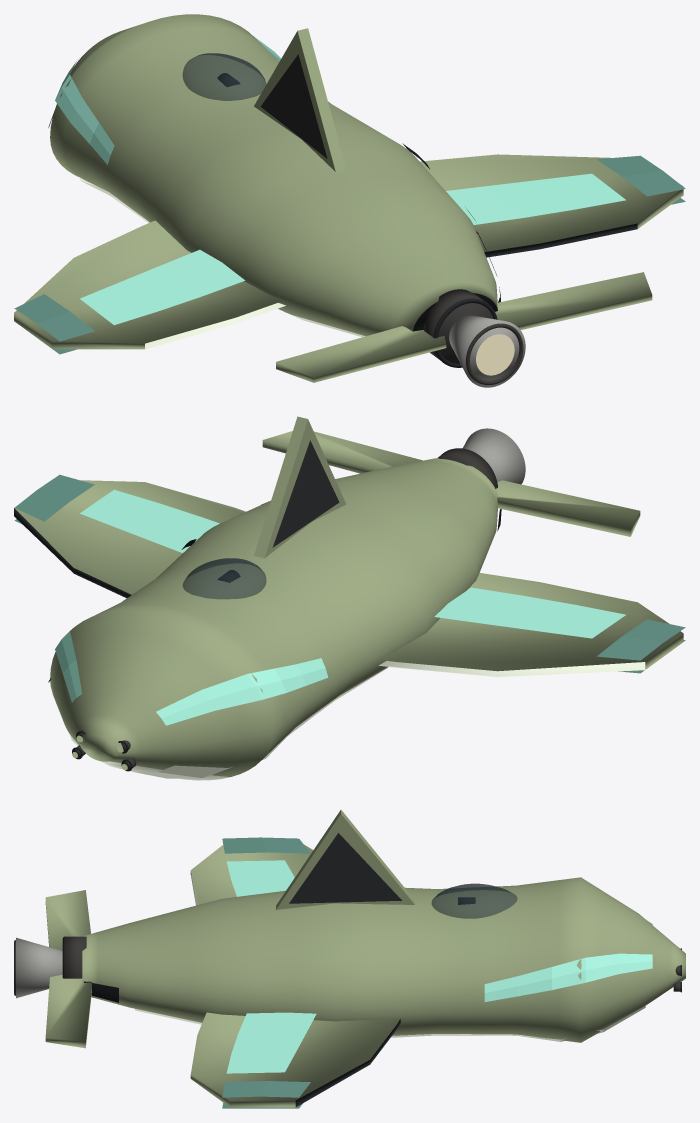
File: Ship_Orca_687341.glb
3 renders of one model, top to bottom at view 1: azimuth 30°, elevation 25°; view 2: azimuth 150°, elevation 25°; view 3: azimuth 270°, elevation 25°, orthographic. The views are drawn at different scales.
Parts seen in each view (by area): view 1: Fuselage_OrcaCountershadedHull, PectoralFin_Left_AerofoilWingFin, PectoralFin_Right_AerofoilWingFin, PectoralFinPaint_Left_BroadSimplePanelTop, PectoralFinPaint_Right_BroadSimplePanelTop, TailFluke_Left_SweptAftStabilizer, TailFluke_Right_SweptAftStabilizer, DorsalFin_MainSweptKeel, CanopyGlass_LowInsetDome, DorsalFinTrimPatch_LeftFace, EngineBell_MainLargeBurnishedNozzle, PaintEyePatch_Left_ForwardWhiteComma (+6 smaller); view 2: Fuselage_OrcaCountershadedHull, PectoralFin_Left_AerofoilWingFin, PectoralFin_Right_AerofoilWingFin, PectoralFinPaint_Left_BroadSimplePanelTop, PaintEyePatch_Left_ForwardWhiteComma, PectoralFinPaint_Right_BroadSimplePanelTop, TailFluke_Left_SweptAftStabilizer, DorsalFin_MainSweptKeel, DorsalFinTrimPatch_LeftFace, CanopyGlass_LowInsetDome, TailFluke_Right_SweptAftStabilizer, EngineBell_MainLargeBurnishedNozzle (+5 smaller); view 3: Fuselage_OrcaCountershadedHull, PectoralFin_Right_AerofoilWingFin, DorsalFinTrimPatch_RightFace, PectoralFinPaint_Right_BroadSimplePanelTop, PaintEyePatch_Right_ForwardWhiteComma, DorsalFin_MainSweptKeel, TailFluke_Right_SweptAftStabilizer, PectoralFin_Left_AerofoilWingFin, CanopyGlass_LowInsetDome, EngineBell_MainLargeBurnishedNozzle, TailFluke_Left_SweptAftStabilizer, PectoralFinPaint_Left_BroadSimplePanelTop (+4 smaller).
Boxes of the visible parts, x1=… form: Fuselage_OrcaCountershadedHull: x1=50, y1=14, x2=497, y2=336; PectoralFin_Left_AerofoilWingFin: x1=14, y1=220, x2=285, y2=349; PectoralFin_Right_AerofoilWingFin: x1=420, y1=154, x2=683, y2=257; PectoralFinPaint_Left_BroadSimplePanelTop: x1=80, y1=249, x2=244, y2=325; PectoralFinPaint_Right_BroadSimplePanelTop: x1=446, y1=173, x2=625, y2=224; TailFluke_Left_SweptAftStabilizer: x1=276, y1=326, x2=446, y2=382; TailFluke_Right_SweptAftStabilizer: x1=495, y1=272, x2=652, y2=329; DorsalFin_MainSweptKeel: x1=254, y1=28, x2=346, y2=171; CanopyGlass_LowInsetDome: x1=182, y1=53, x2=266, y2=100; DorsalFinTrimPatch_LeftFace: x1=260, y1=54, x2=327, y2=158; EngineBell_MainLargeBurnishedNozzle: x1=449, y1=315, x2=525, y2=387; PaintEyePatch_Left_ForwardWhiteComma: x1=55, y1=57, x2=114, y2=164; Fuselage_OrcaCountershadedHull: x1=50, y1=458, x2=497, y2=780; PectoralFin_Left_AerofoilWingFin: x1=379, y1=573, x2=683, y2=676; PectoralFin_Right_AerofoilWingFin: x1=14, y1=480, x2=245, y2=598; PectoralFinPaint_Left_BroadSimplePanelTop: x1=434, y1=587, x2=625, y2=638; PaintEyePatch_Left_ForwardWhiteComma: x1=156, y1=658, x2=328, y2=725; PectoralFinPaint_Right_BroadSimplePanelTop: x1=80, y1=489, x2=219, y2=552; TailFluke_Left_SweptAftStabilizer: x1=495, y1=480, x2=640, y2=536; DorsalFin_MainSweptKeel: x1=254, y1=416, x2=346, y2=558; DorsalFinTrimPatch_LeftFace: x1=272, y1=440, x2=339, y2=547; CanopyGlass_LowInsetDome: x1=182, y1=558, x2=266, y2=599; TailFluke_Right_SweptAftStabilizer: x1=262, y1=431, x2=422, y2=473; EngineBell_MainLargeBurnishedNozzle: x1=462, y1=428, x2=525, y2=484; Fuselage_OrcaCountershadedHull: x1=82, y1=877, x2=685, y2=1042; PectoralFin_Right_AerofoilWingFin: x1=190, y1=1012, x2=400, y2=1107; DorsalFinTrimPatch_RightFace: x1=289, y1=833, x2=401, y2=903; PectoralFinPaint_Right_BroadSimplePanelTop: x1=226, y1=1012, x2=316, y2=1073; PaintEyePatch_Right_ForwardWhiteComma: x1=484, y1=953, x2=652, y2=1001; DorsalFin_MainSweptKeel: x1=276, y1=810, x2=414, y2=909; TailFluke_Right_SweptAftStabilizer: x1=45, y1=975, x2=92, y2=1048; PectoralFin_Left_AerofoilWingFin: x1=190, y1=844, x2=313, y2=905; CanopyGlass_LowInsetDome: x1=431, y1=883, x2=517, y2=918; EngineBell_MainLargeBurnishedNozzle: x1=16, y1=937, x2=62, y2=998; TailFluke_Left_SweptAftStabilizer: x1=45, y1=890, x2=90, y2=950; PectoralFinPaint_Left_BroadSimplePanelTop: x1=226, y1=860, x2=294, y2=896.
Size of the model in its own units: 6.41 by 2.47 by 6.97.
